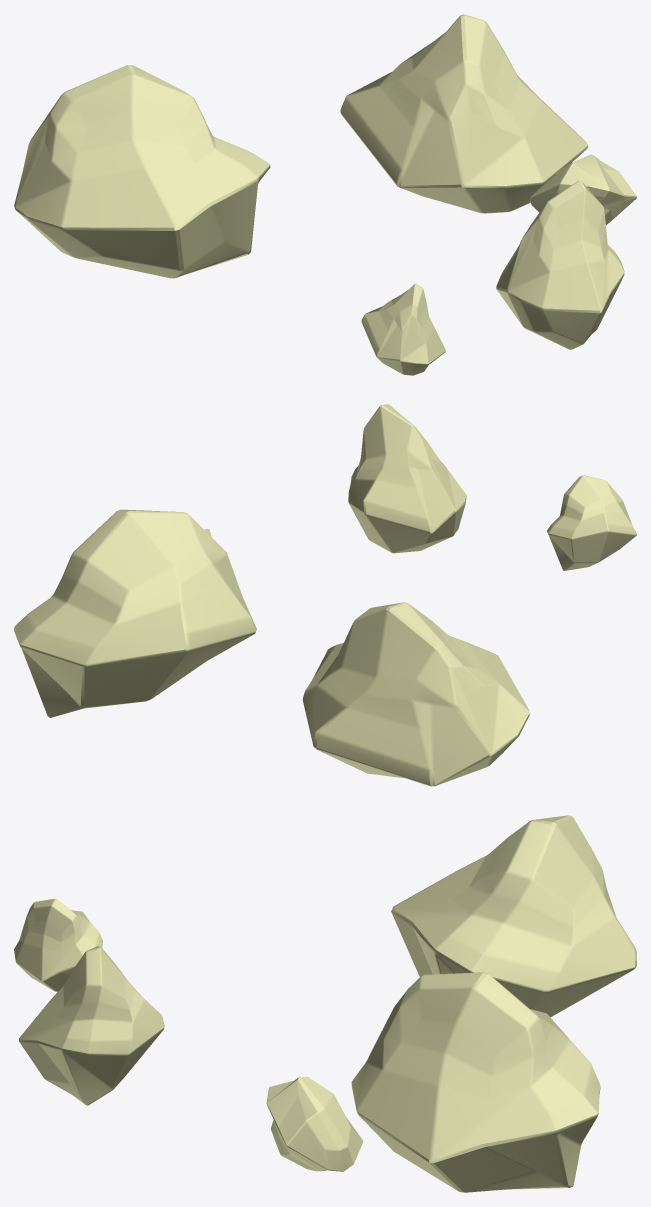
The model's file is stones_Low.fbx.
The picture shows the model from 3 angles, top to bottom: view 1: azimuth 30°, elevation 25°; view 2: azimuth 150°, elevation 25°; view 3: azimuth 270°, elevation 25°; orthographic projection. The views are drawn at different scales.
Parts seen in each view (by area): view 1: pCube439, pCube437, pCube435, pCube436, pCube438; view 2: pCube437, pCube439, pCube435, pCube436; view 3: pCube437, pCube439, pCube435, pCube438, pCube436.
Part boxes in pixels (bbox=[...]): pCube439: bbox=[14, 65, 270, 278]; pCube437: bbox=[340, 14, 588, 213]; pCube435: bbox=[496, 180, 624, 349]; pCube436: bbox=[361, 283, 445, 375]; pCube438: bbox=[530, 154, 636, 224]; pCube437: bbox=[14, 509, 256, 717]; pCube439: bbox=[302, 602, 529, 786]; pCube435: bbox=[348, 404, 466, 553]; pCube436: bbox=[547, 475, 636, 570]; pCube437: bbox=[351, 972, 600, 1192]; pCube439: bbox=[391, 815, 636, 1017]; pCube435: bbox=[19, 946, 164, 1105]; pCube438: bbox=[266, 1077, 362, 1171]; pCube436: bbox=[14, 898, 102, 991].
Size of the model in its own units: 23.42 by 8.4 by 23.81.
